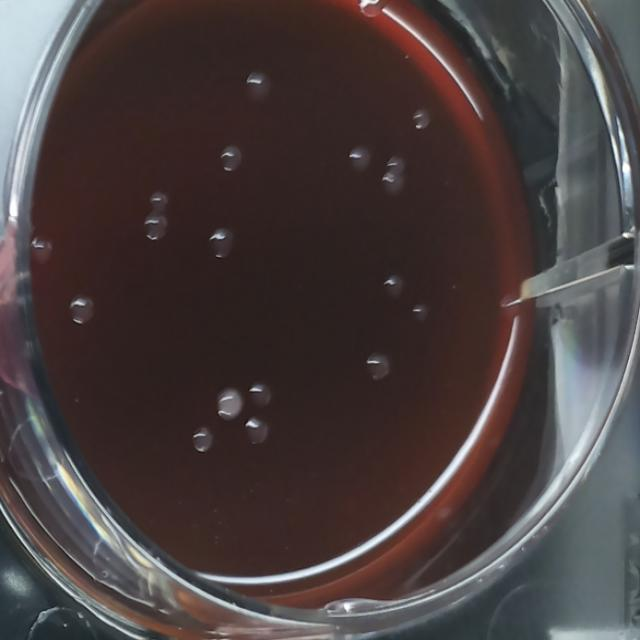Vibrio: (205, 223, 238, 265), (240, 67, 274, 104), (66, 291, 98, 328), (26, 228, 55, 267), (364, 346, 393, 382), (242, 412, 271, 448), (142, 212, 170, 245), (347, 142, 375, 175), (218, 142, 245, 175), (190, 424, 216, 456), (247, 380, 274, 410), (382, 270, 406, 303), (380, 170, 406, 198), (410, 104, 434, 133), (146, 186, 170, 214), (385, 152, 407, 176), (411, 302, 430, 325)
